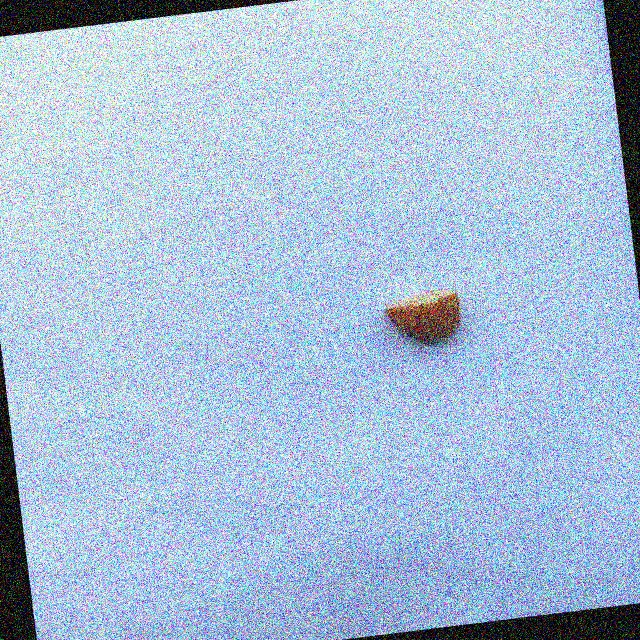grade4: (374, 281, 472, 355)
